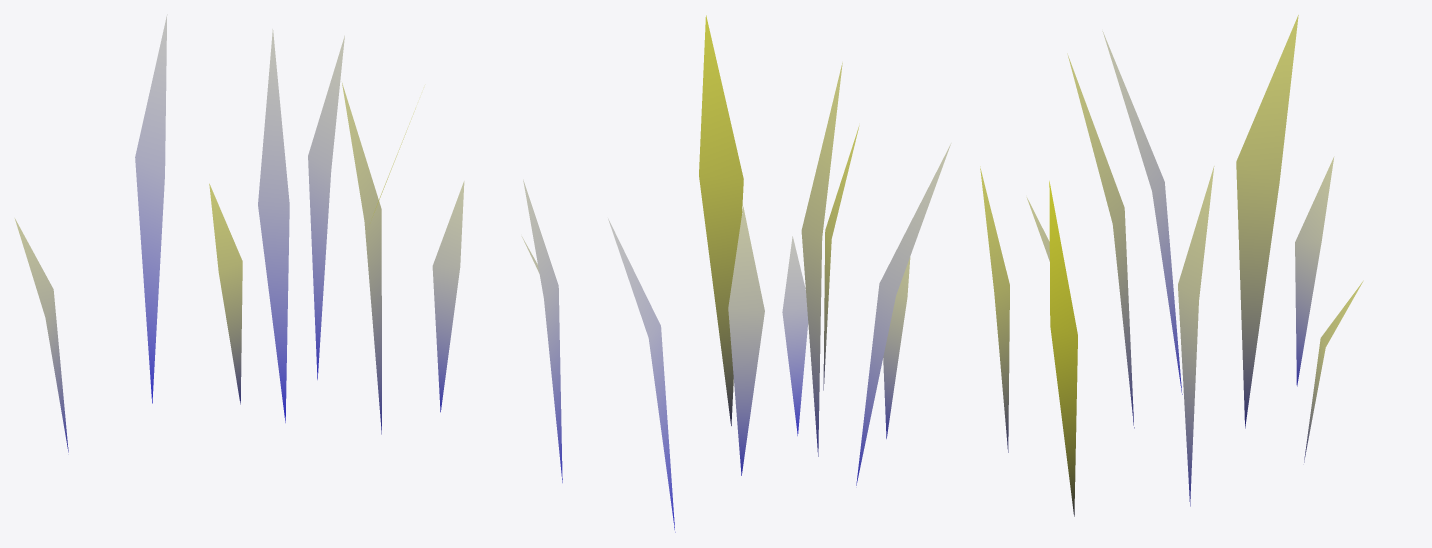
The model's file is grass-2.glb.
3 renders of one model, left to right at view 1: azimuth 30°, elevation 25°; view 2: azimuth 150°, elevation 25°; view 3: azimuth 270°, elevation 25°, orthographic. The views are drawn at different scales.
Visible parts, largest first — view 1: Grass 2 atom; view 2: Grass 2 atom; view 3: Grass 2 atom.
Boxes of the visible parts, bbox=[...] form: Grass 2 atom: bbox=[14, 14, 464, 452]; Grass 2 atom: bbox=[521, 15, 951, 532]; Grass 2 atom: bbox=[980, 15, 1363, 516].
Size of the model in its own units: 0.822 by 0.829 by 0.8237.
